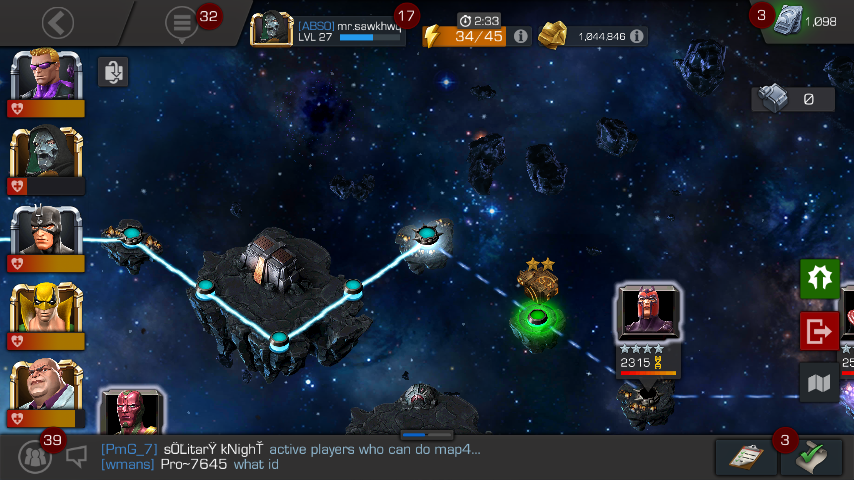green: (527, 309, 548, 326)
